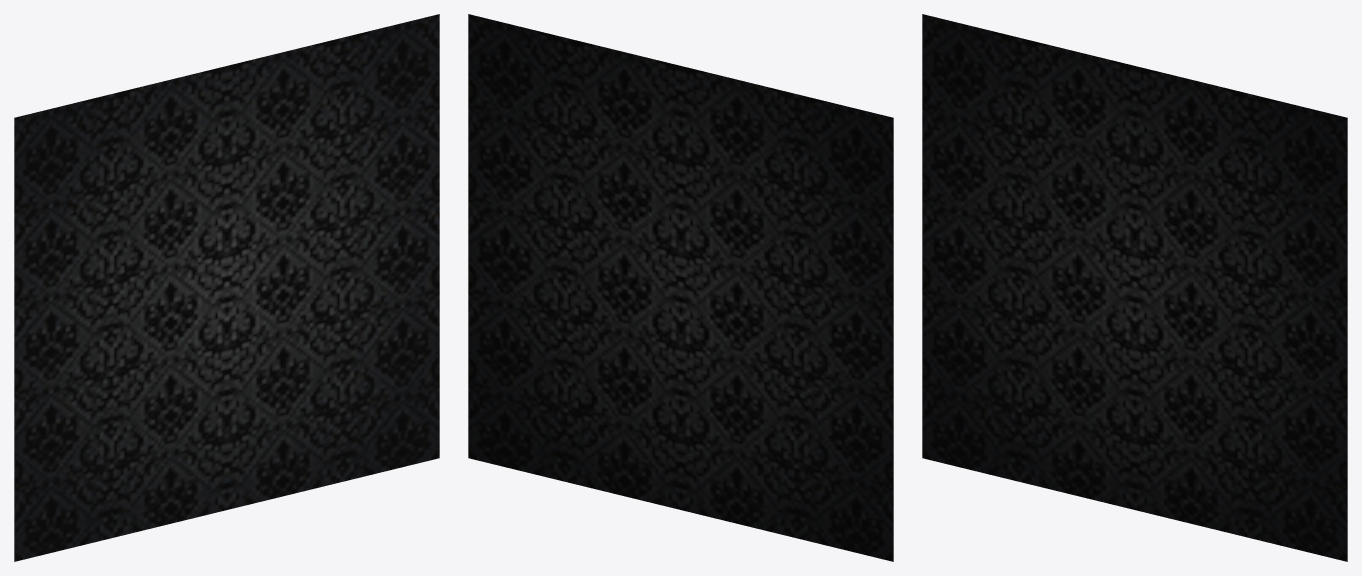
Rendered from WallpaperSquare.fbx.
3 views of the same model, side by side, from view 1: azimuth 30°, elevation 25°; view 2: azimuth 150°, elevation 25°; view 3: azimuth 330°, elevation 25° (orthographic).
Visible parts, largest first — view 1: Cube.019; view 2: Cube.019; view 3: Cube.019.
Part boxes in pixels (<box>): Cube.019: <box>14,14,439,561</box>; Cube.019: <box>468,14,893,561</box>; Cube.019: <box>922,14,1347,561</box>.
Bounding box in the file's own units: 364 × 363 × 0.
1 material, 1 textured.
